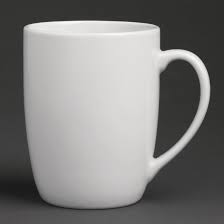mug: (16, 14, 215, 214)
